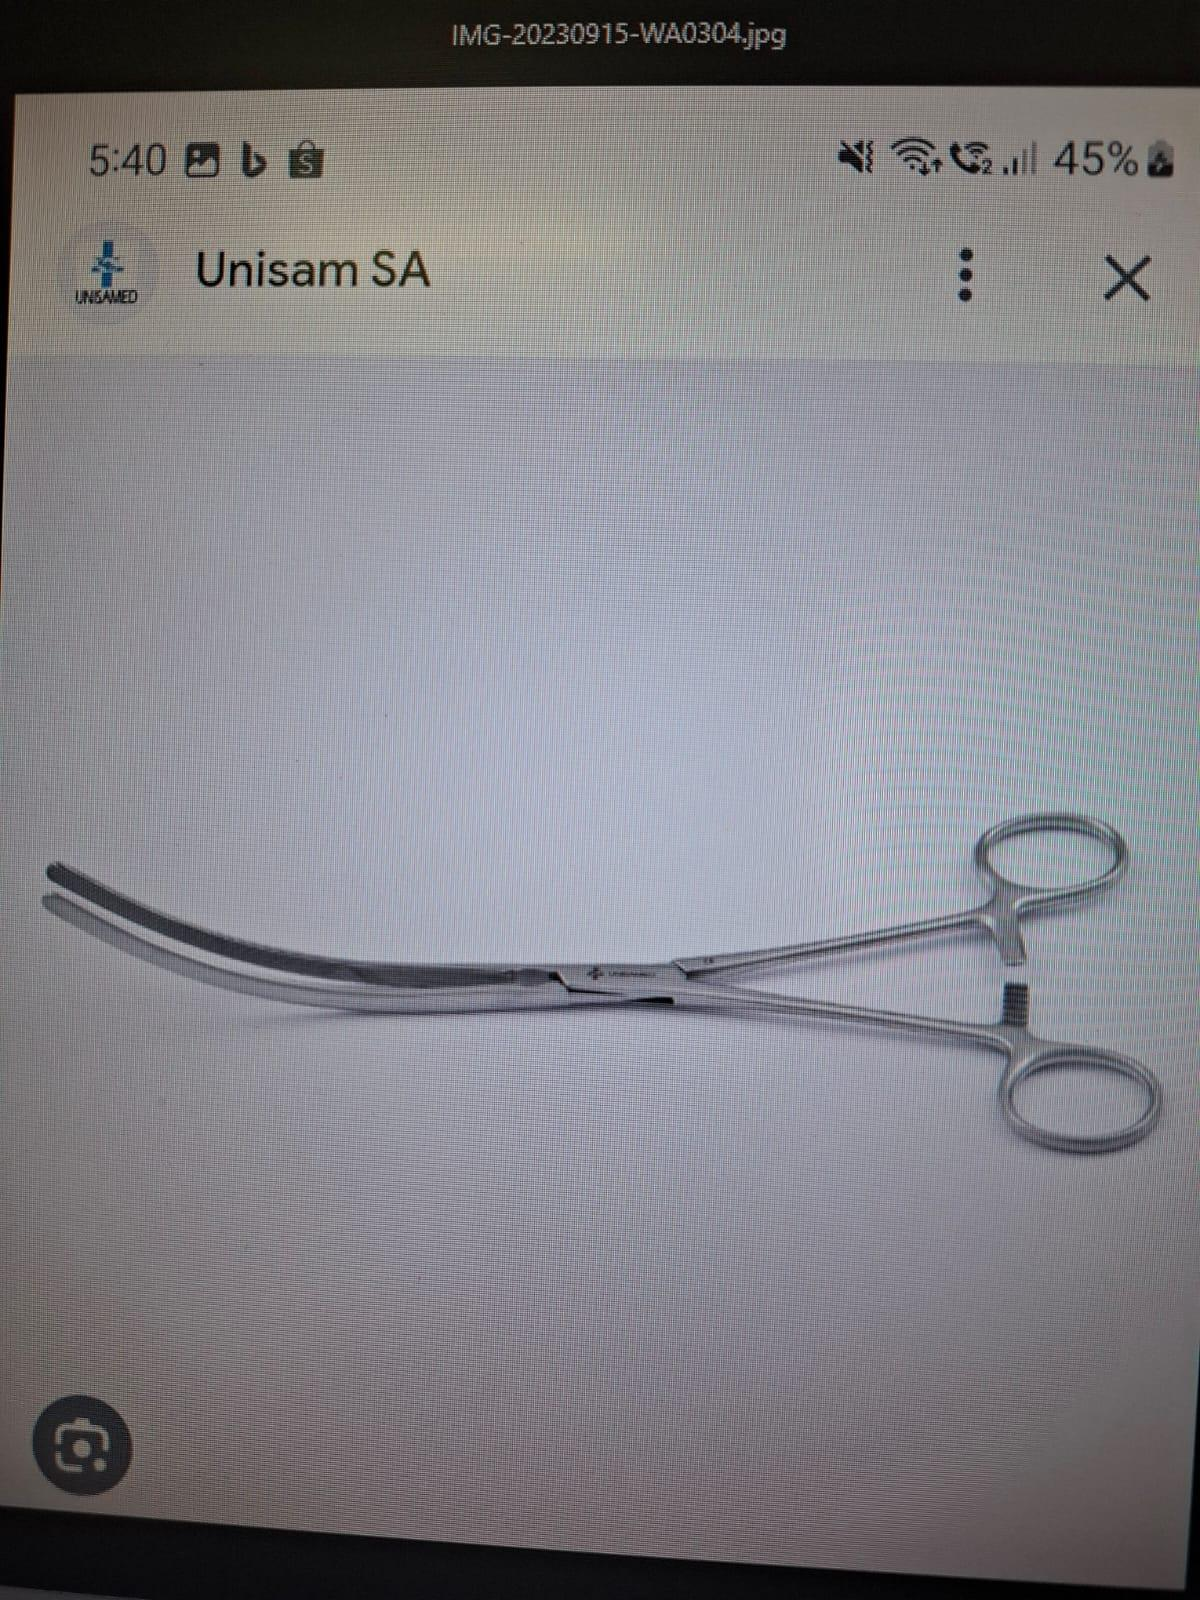Doyel Instestinal Forceps: (33, 803, 1177, 1165)
